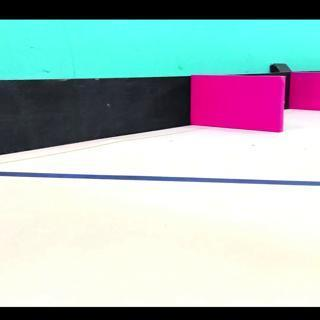xparking: (194, 80, 280, 130), (294, 78, 316, 110)
